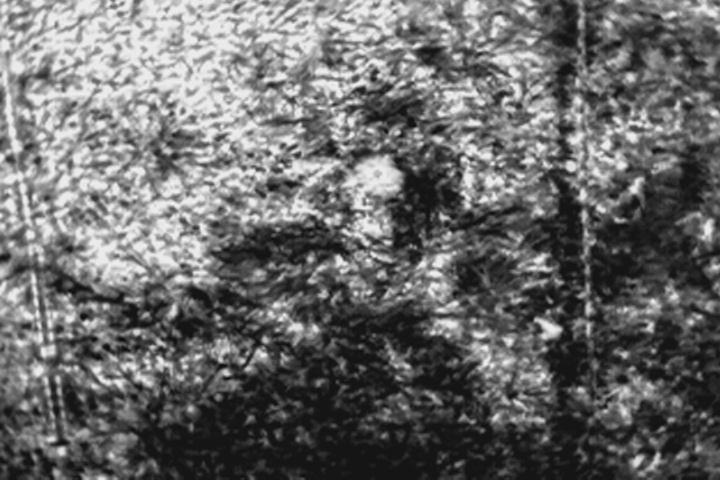landmine: (352, 152, 404, 195)
